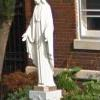Statue: (18, 2, 66, 91)
